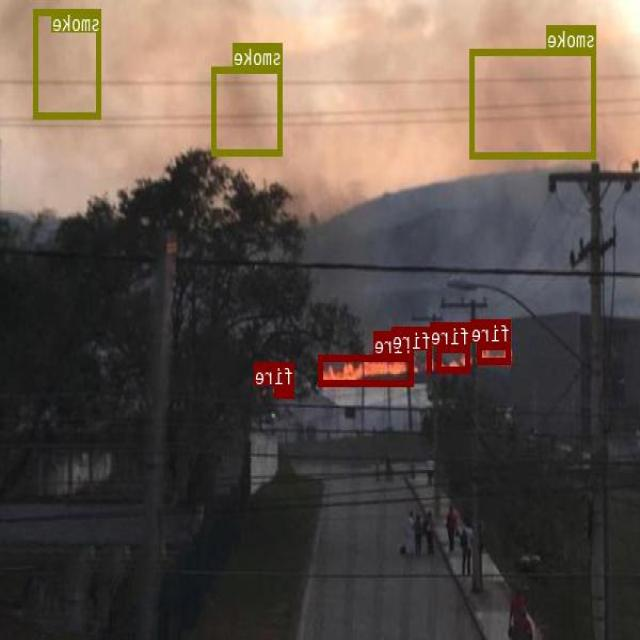fire: (319, 354, 415, 384), (438, 345, 471, 372), (478, 342, 512, 364), (276, 384, 294, 398), (428, 349, 432, 372)
smoke: (471, 49, 597, 158), (35, 7, 102, 118), (213, 65, 283, 155)
